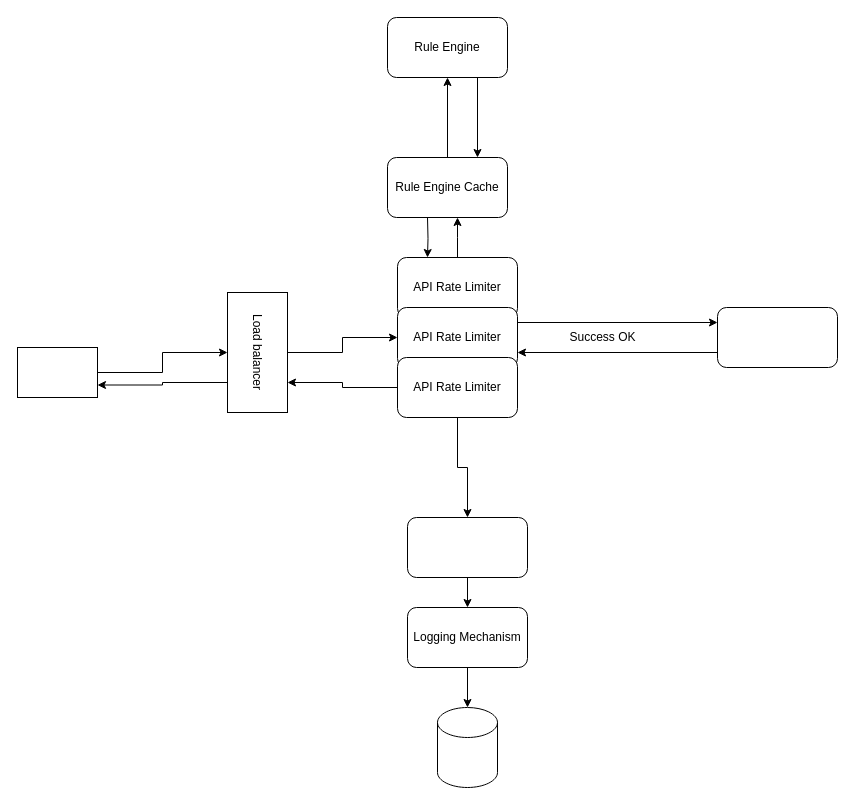
The diagram is 855 pixels wide and 805 high, and some of its shapes have lost their labels. The box of each missing label's shape, as (x1, y1, x2, y2) in pixels:
Cache (High throughput): (406, 516, 528, 578)
Client(s): (16, 346, 98, 398)
Long term STorage: (436, 706, 498, 788)
Web/Servers/backend: (716, 306, 838, 368)
